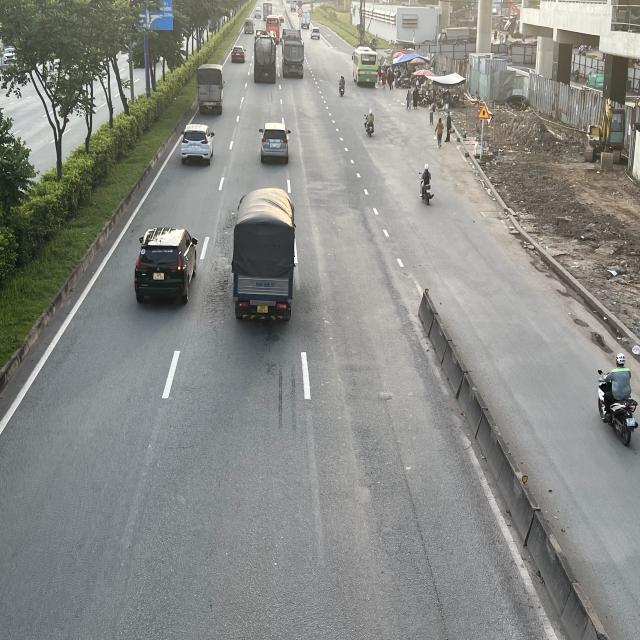car: (132, 225, 200, 307), (179, 121, 215, 165), (260, 120, 292, 163), (232, 44, 247, 64), (310, 26, 322, 41), (254, 5, 262, 18)
coach: (353, 48, 380, 86)
container: (254, 31, 279, 81), (282, 34, 304, 78)
truck: (233, 186, 300, 323), (197, 63, 225, 113)
